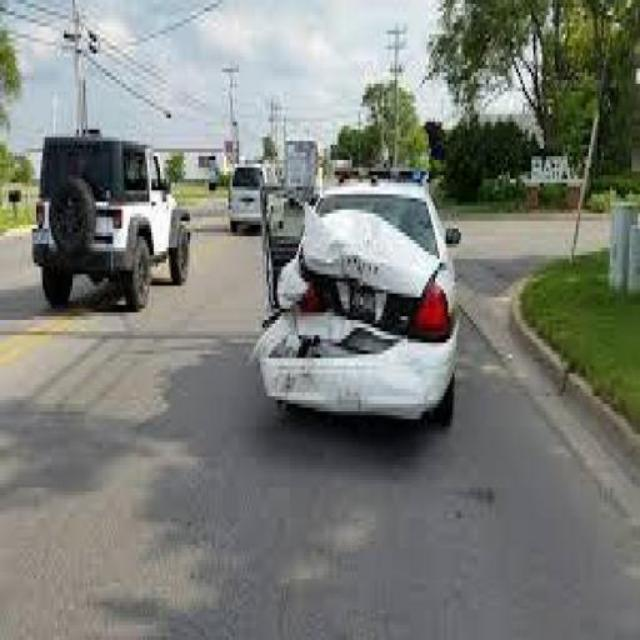dislocated part: (251, 206, 439, 415)
